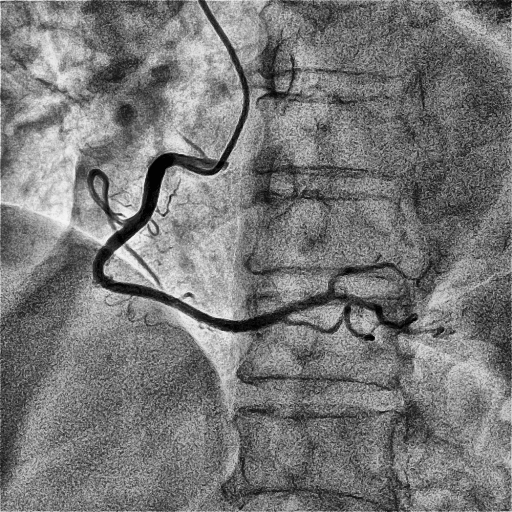pborca: (280, 262, 405, 317)
pda: (283, 305, 375, 341)
rca: (92, 152, 287, 333)
